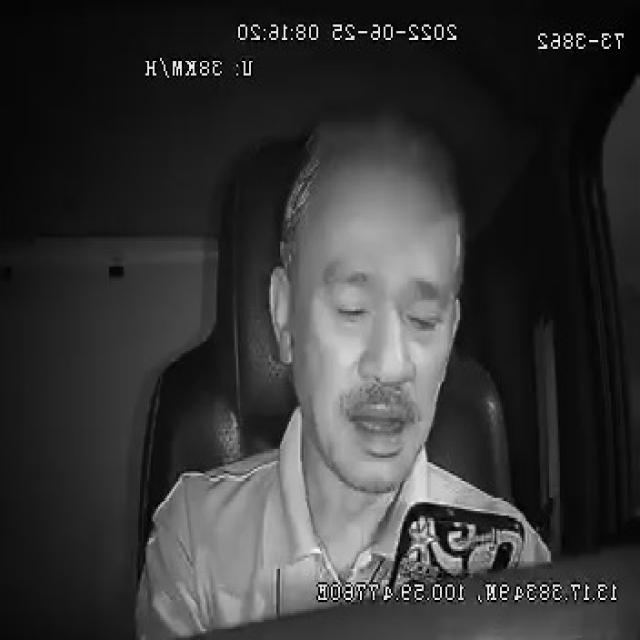phone: (389, 500, 524, 584)
